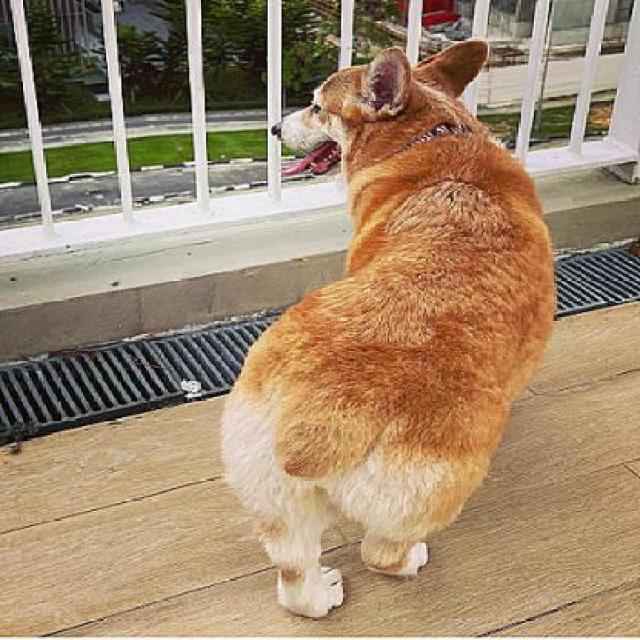Dog: (218, 34, 558, 617)
